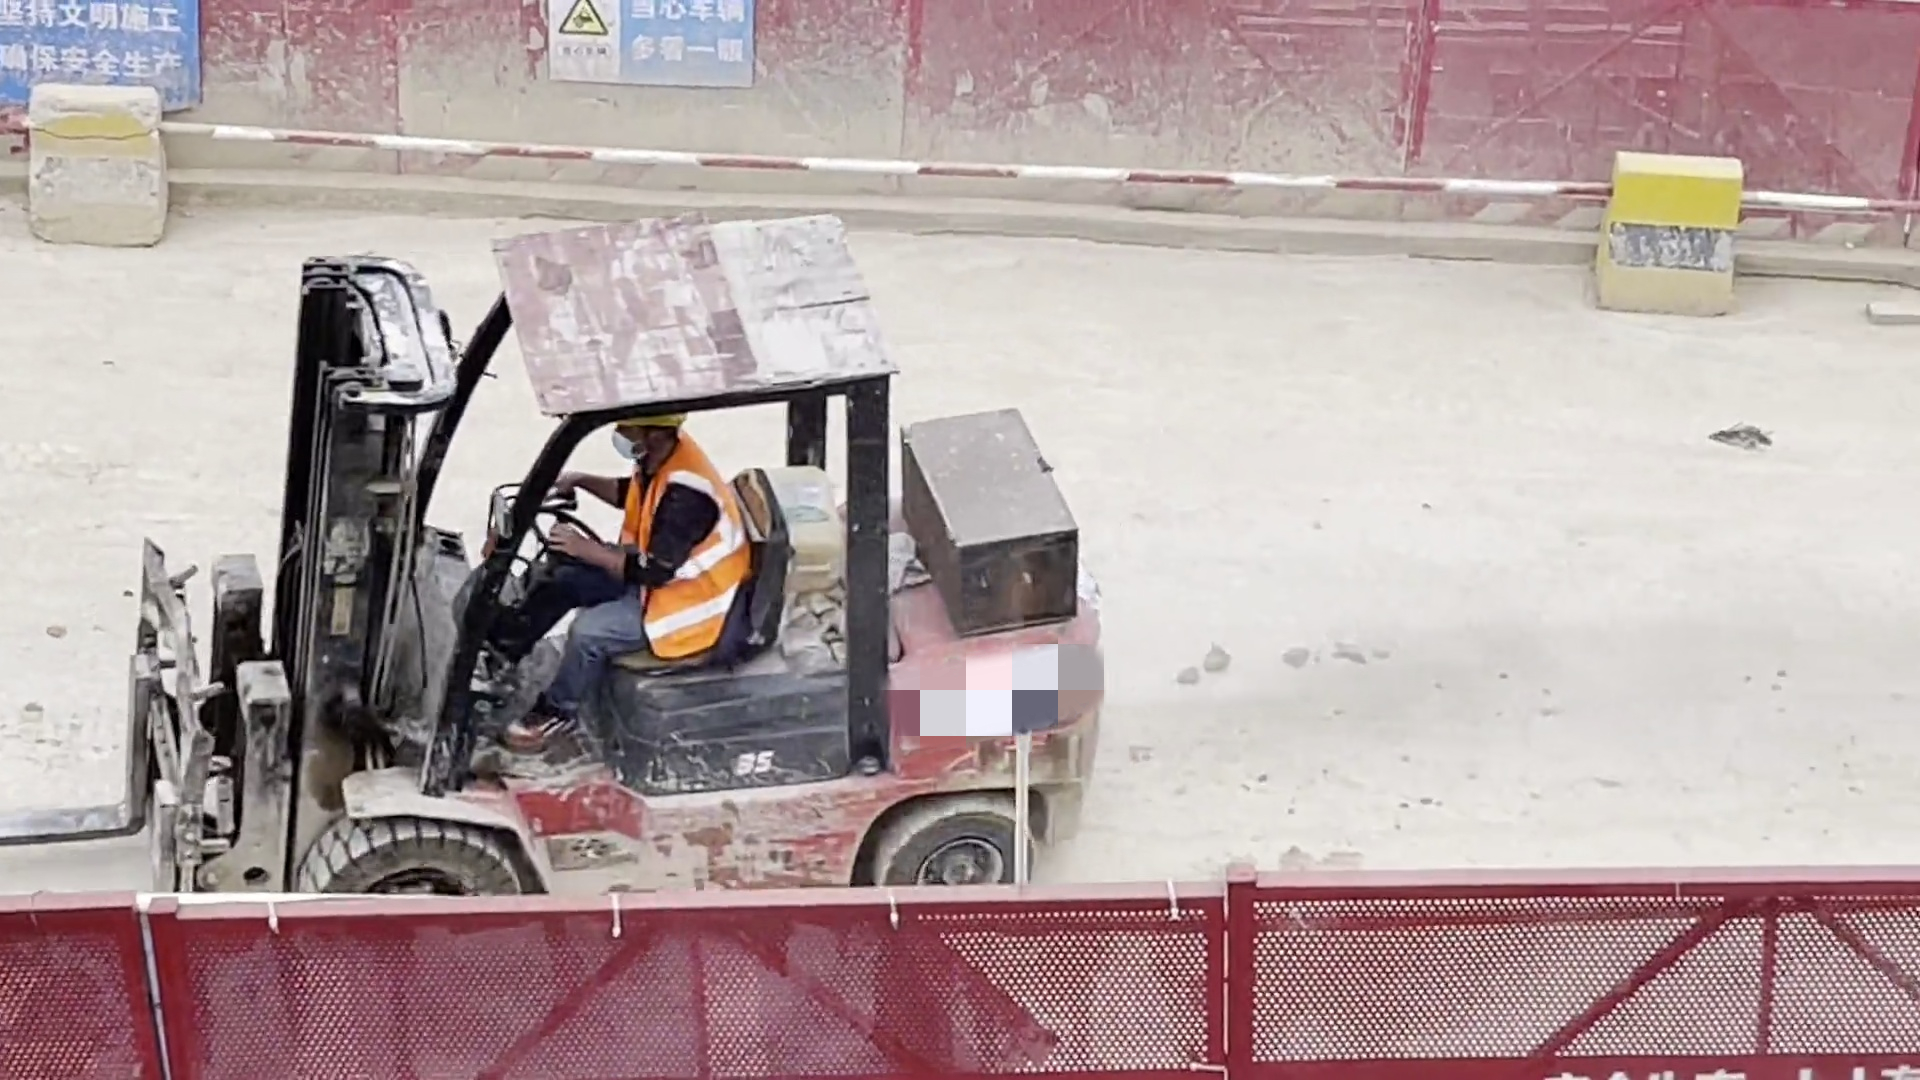fence: (135, 1, 1848, 314)
helmet: (602, 403, 701, 446)
person: (503, 400, 754, 765)
slogan: (541, 1, 768, 110), (4, 1, 195, 113)
vest: (622, 453, 750, 680)
